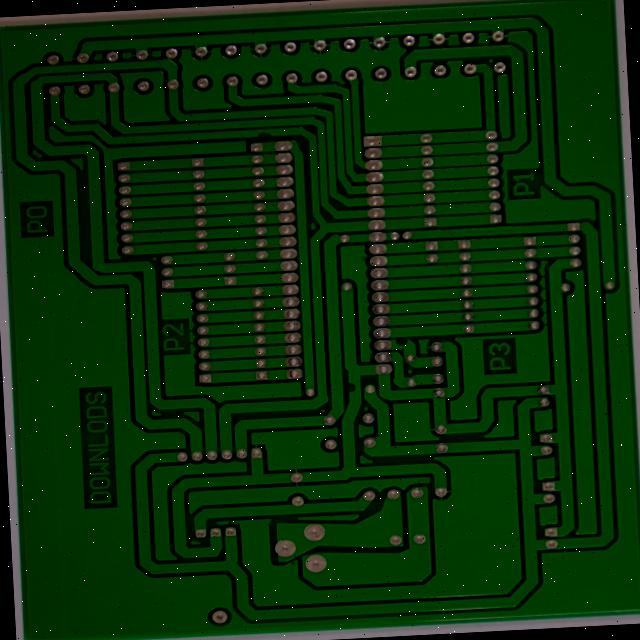mouse_bite: (179, 145, 206, 161), (287, 427, 308, 447), (345, 379, 367, 395)
